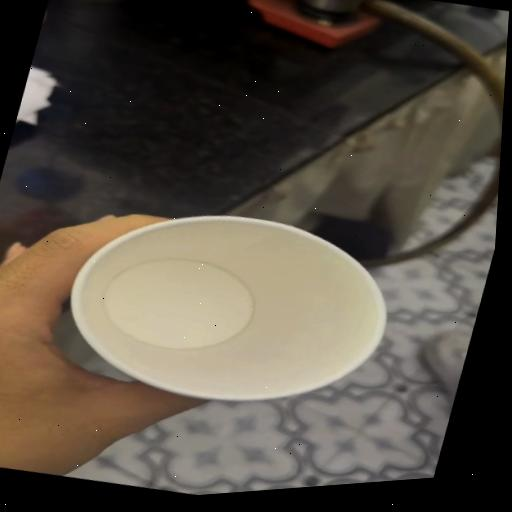Ly_giay: (70, 215, 385, 400)
